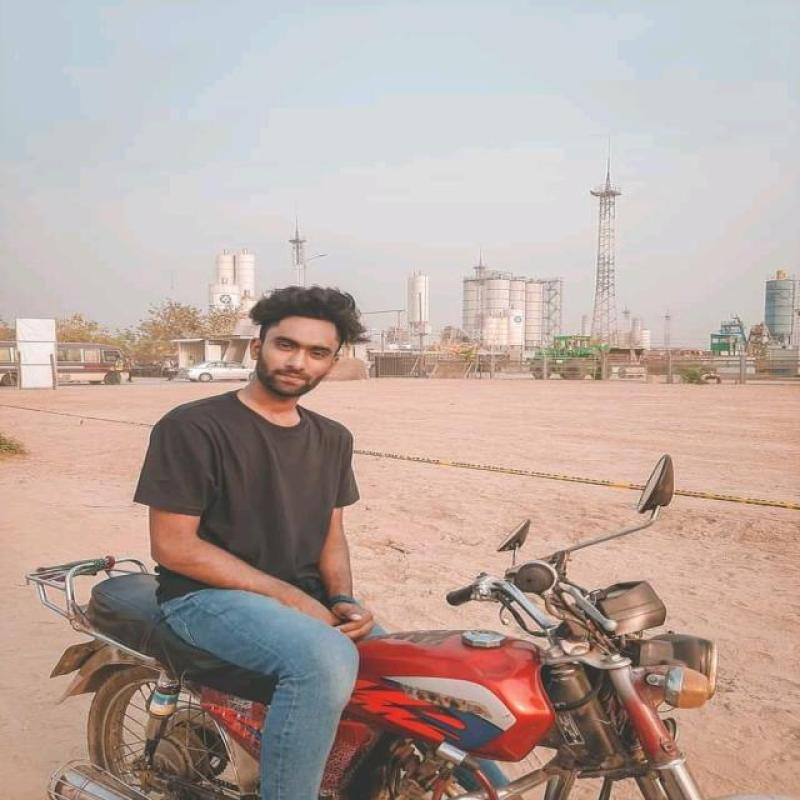nohelmet: (248, 285, 351, 409)
